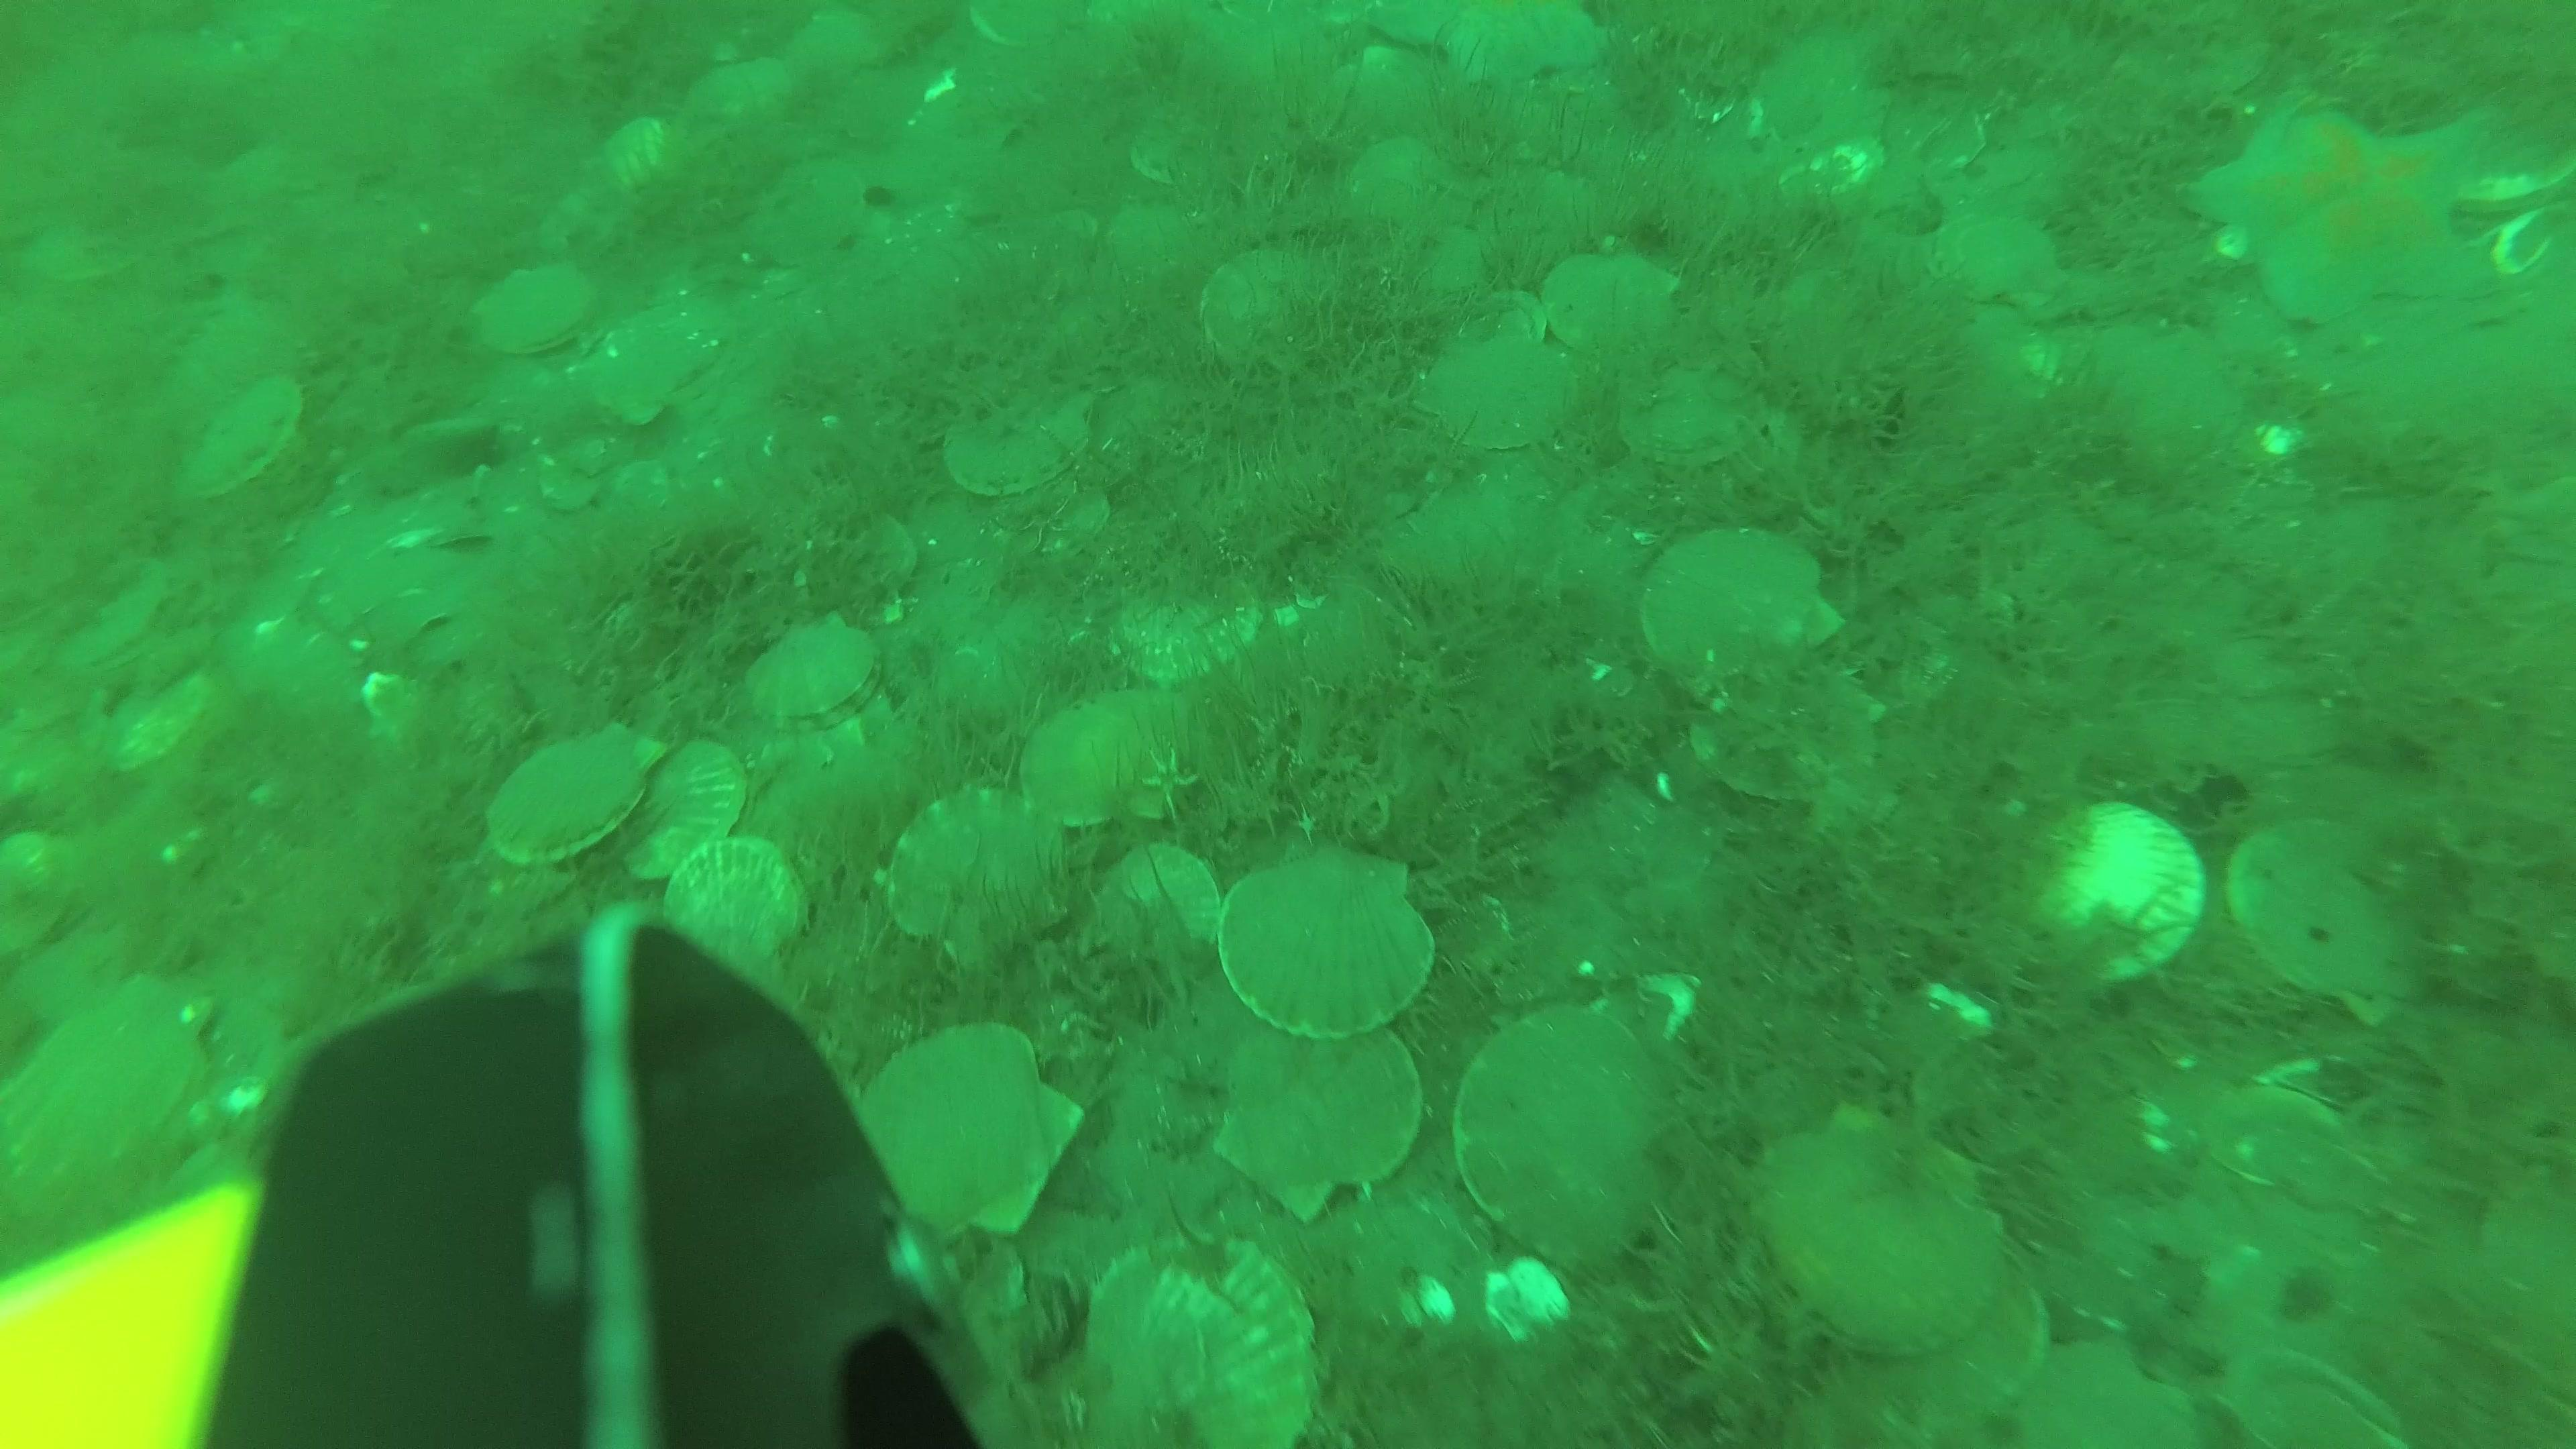scallop: (1748, 1111, 2013, 1361), (1453, 993, 1679, 1261), (840, 1014, 1092, 1244), (1072, 1224, 1322, 1449), (2227, 807, 2468, 1030), (4, 971, 219, 1217), (1217, 830, 1440, 1046), (1996, 778, 2213, 994), (1208, 1019, 1430, 1221), (878, 786, 1088, 966), (1633, 522, 1851, 695), (1849, 1277, 2063, 1437), (1016, 681, 1205, 833), (483, 722, 676, 869), (1688, 676, 1895, 803), (1412, 326, 1591, 458), (662, 830, 809, 980), (2006, 1336, 2197, 1449), (1196, 235, 1339, 379), (617, 743, 752, 893), (938, 384, 1108, 501), (2097, 320, 2240, 456), (1534, 244, 1691, 364), (2194, 1081, 2355, 1198), (1612, 368, 1782, 474), (591, 297, 727, 428), (1109, 582, 1269, 692), (738, 625, 890, 736), (1746, 37, 1888, 152), (180, 372, 310, 497), (1928, 209, 2077, 317), (750, 156, 879, 267), (1339, 134, 1468, 242), (465, 267, 612, 361), (4, 819, 94, 962), (108, 674, 218, 784), (1102, 195, 1221, 283), (683, 57, 796, 145), (1129, 99, 1228, 193), (596, 108, 683, 196), (961, 2, 1072, 53)
starfish: (2190, 87, 2502, 338), (1346, 0, 1624, 99)
